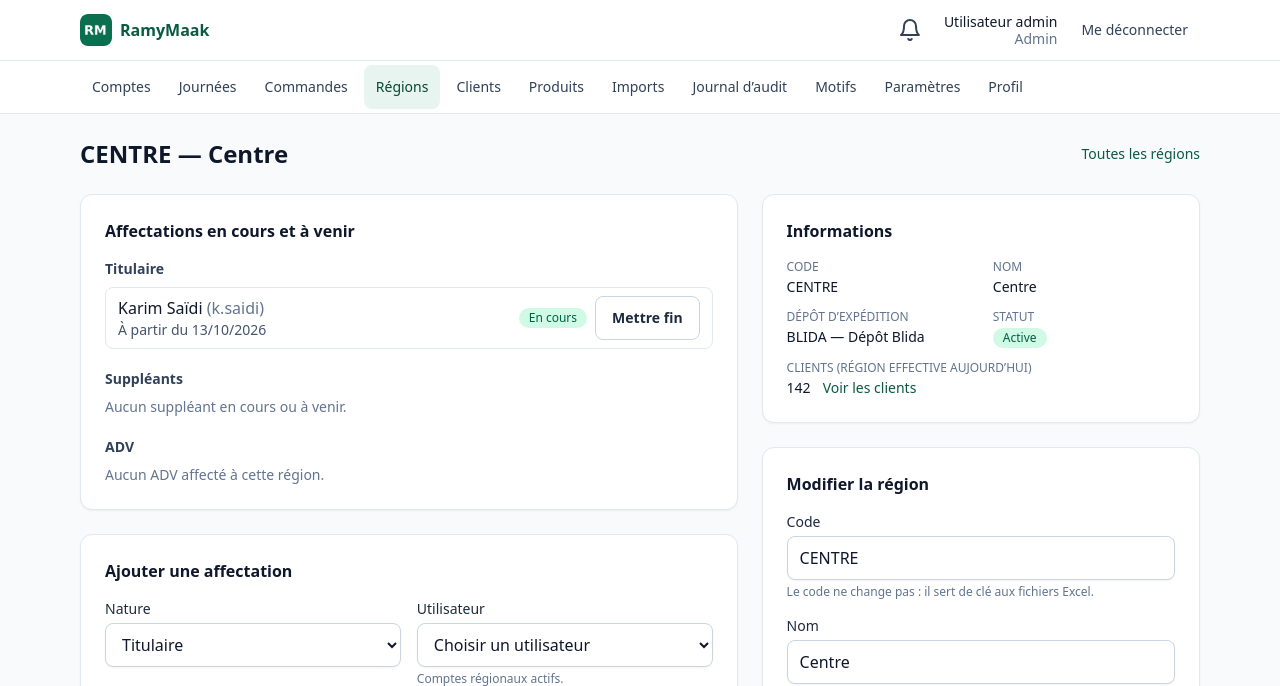
Test: back-office — region detail and assignments › reports an assignment already ended elsewhere
Click the button with aria-label "Mettre fin à l’affectation de Karim Saïdi (Titulaire)". click: (647, 318)
box: [595,296,700,340]
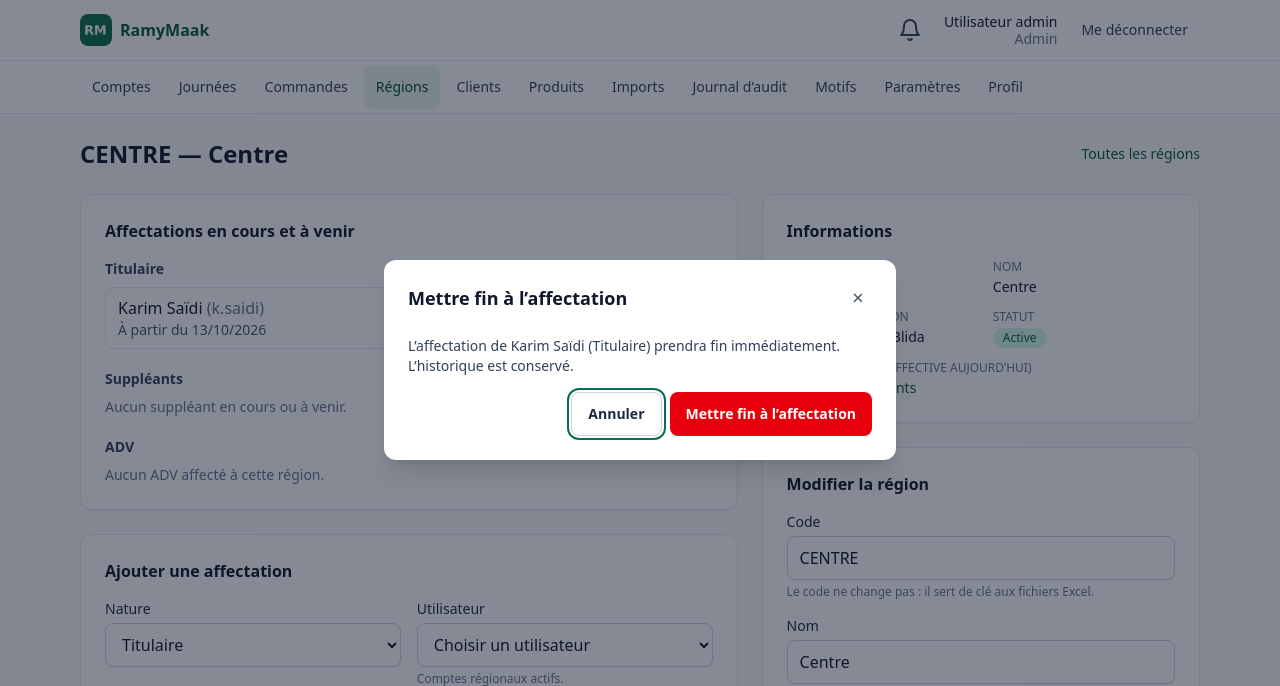
Click the button "Mettre fin à l’affectation". click: (771, 414)
box: [670,392,872,436]
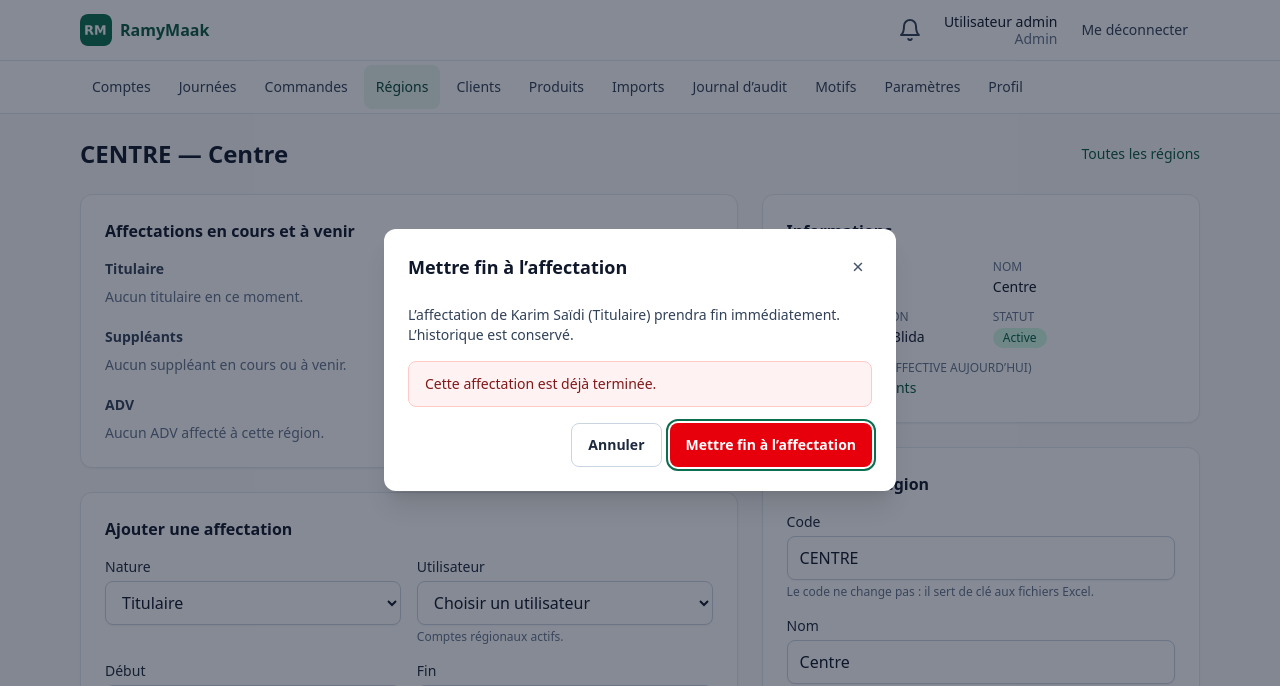
Expected: the text "Cette affectation est déjà terminée." is shown, [408,361,872,407]
Expected: the text "Aucun titulaire en ce moment." is shown, [105,287,303,306]
Click the button "Annuler". click: (616, 445)
box: [571,423,662,467]
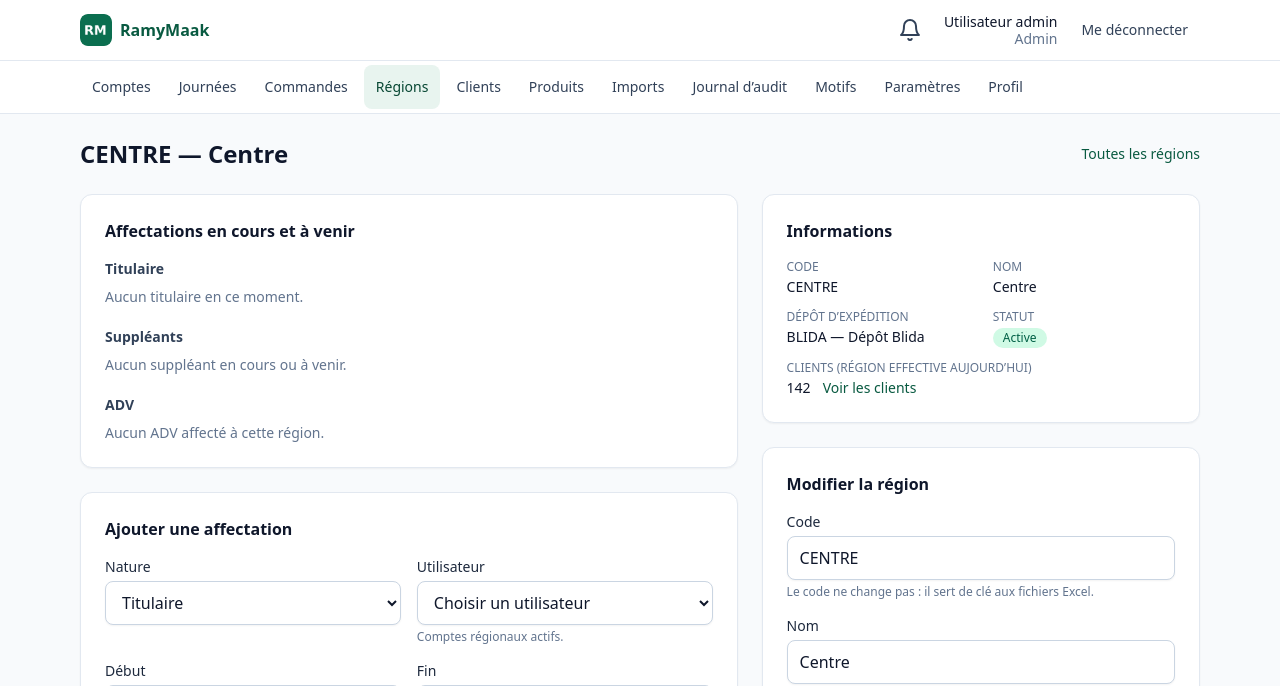
Expected: the dialog is gone
